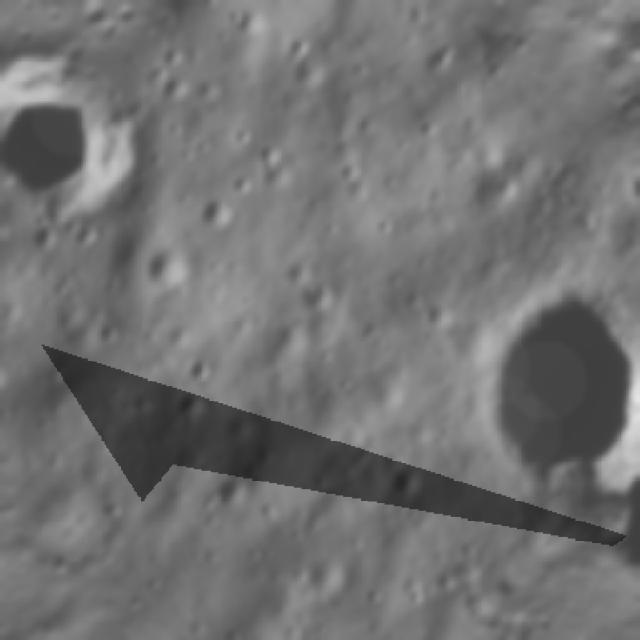crater: (415, 218, 640, 519), (2, 91, 166, 258), (126, 239, 208, 321), (370, 440, 448, 517), (296, 280, 342, 326)
